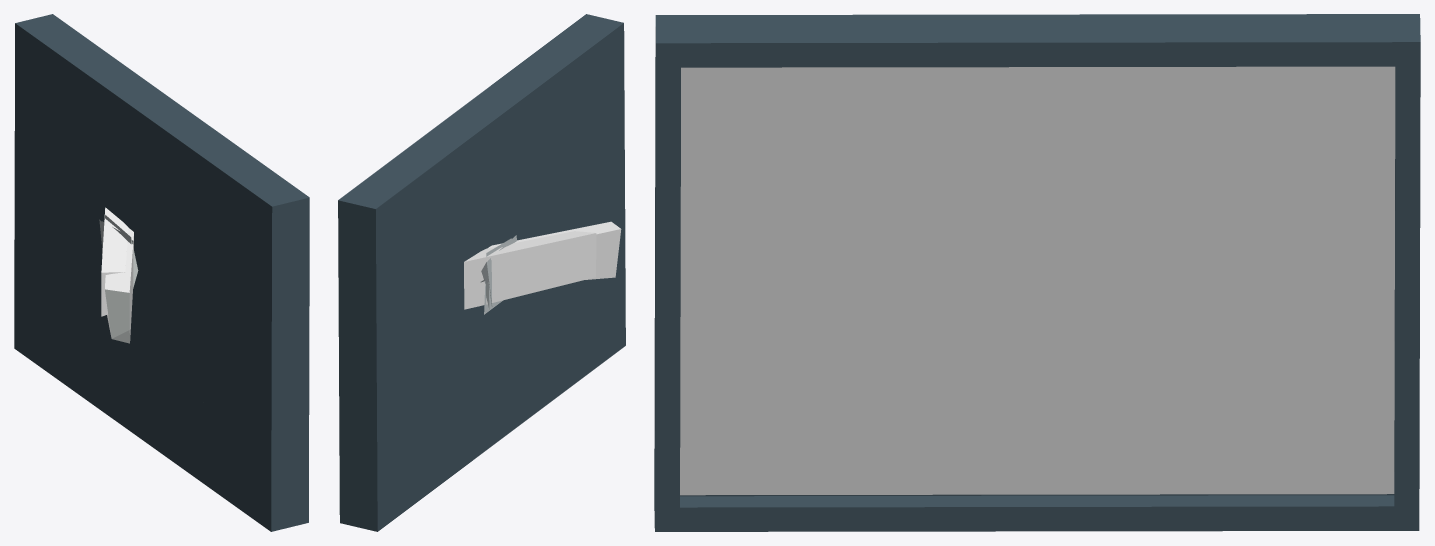
File: newframe ORIGIN.fbx
3 renders of one model, left to right at view 1: azimuth 30°, elevation 25°; view 2: azimuth 150°, elevation 25°; view 3: azimuth 270°, elevation 25°, orthographic. The views are drawn at different scales.
Parts seen in each view (by area): view 1: group866374169.002_cell.019, group866374169.002_cell.006, group866374169.002_cell.011, group866374169.002_cell.010, group866374169.002_cell.018, group866374169.002_cell.003, group866374169.002_cell.014, group866374169.002_cell.022, group866374169.002_cell.021, group866374169.002_cell.038, group866374169.002_cell.015, group866374169.002_cell.002; view 2: group866374169.002_cell.011, group866374169.002_cell.010, group866374169.002_cell.003, group866374169.002_cell.019, group866374169.002_cell.006, group866374169.002_cell.018, group866374169.002_cell.022, group866374169.002_cell.014, group866374169.002_cell.036, group866374169.002_cell.015; view 3: group866374169.002_cell.019, group866374169.002_cell.011, group866374169.002_cell.010, group866374169.002_cell.018, group866374169.002_cell.006, group866374169.002_cell.003.
Part boxes in pixels (x1,y1,x2,y2): group866374169.002_cell.019: (142,278,309,531); group866374169.002_cell.006: (190,139,309,361); group866374169.002_cell.011: (14,51,185,304); group866374169.002_cell.010: (14,246,154,448); group866374169.002_cell.018: (139,109,309,383); group866374169.002_cell.003: (14,14,104,207); group866374169.002_cell.014: (131,154,190,199); group866374169.002_cell.022: (101,207,128,316); group866374169.002_cell.021: (156,287,207,353); group866374169.002_cell.038: (105,289,129,343); group866374169.002_cell.015: (105,228,133,292); group866374169.002_cell.002: (133,273,143,358); group866374169.002_cell.011: (339,104,504,429); group866374169.002_cell.010: (339,316,513,531); group866374169.002_cell.003: (338,162,438,353); group866374169.002_cell.019: (501,199,625,429); group866374169.002_cell.006: (508,14,624,177); group866374169.002_cell.018: (467,73,624,243); group866374169.002_cell.022: (464,231,596,309); group866374169.002_cell.014: (488,108,545,205); group866374169.002_cell.036: (585,229,621,279); group866374169.002_cell.015: (488,221,620,248); group866374169.002_cell.019: (654,214,1097,531); group866374169.002_cell.011: (1024,14,1419,376); group866374169.002_cell.010: (1000,330,1419,531); group866374169.002_cell.018: (655,14,1097,335); group866374169.002_cell.006: (655,14,897,275); group866374169.002_cell.003: (1221,14,1420,260).
Bounding box in the file's own units: 4.52 × 11.71 × 16.54.
